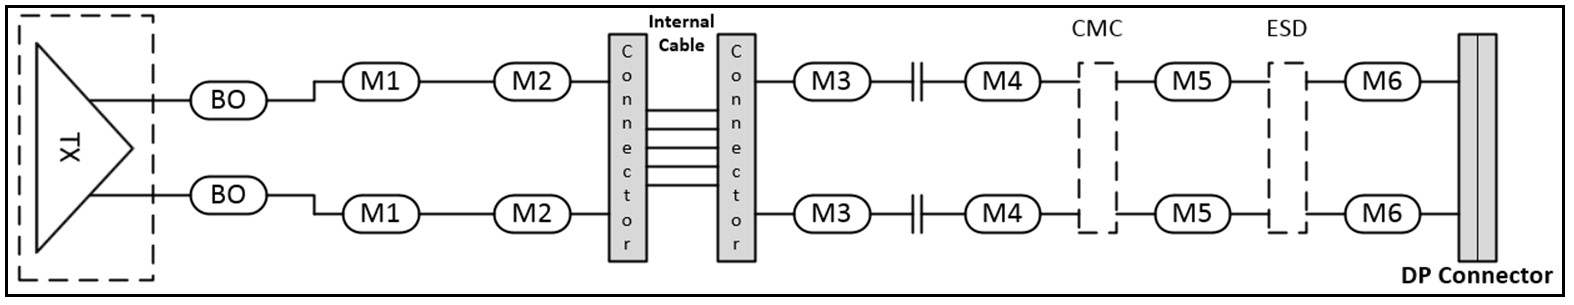capacitor: (907, 57, 934, 109), (906, 187, 928, 244)
dotted_rectangle: (15, 11, 161, 289), (1074, 57, 1123, 249), (1263, 58, 1309, 241)
oval: (960, 57, 1042, 111), (487, 58, 576, 104), (490, 192, 577, 239), (188, 81, 271, 127), (1152, 60, 1234, 106), (791, 195, 877, 238), (337, 63, 420, 106), (790, 58, 872, 101), (191, 171, 268, 216), (961, 198, 1041, 241), (1344, 193, 1420, 238), (1155, 192, 1233, 235), (1344, 62, 1422, 104), (344, 198, 417, 239)
rectangle: (1456, 31, 1503, 265), (714, 31, 760, 266), (609, 36, 655, 268)
triangle: (28, 43, 134, 263)
